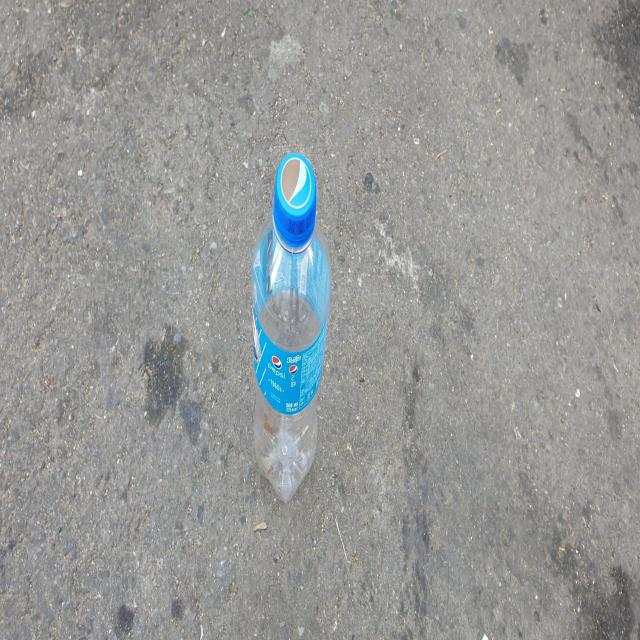plastic: (252, 151, 331, 500)
